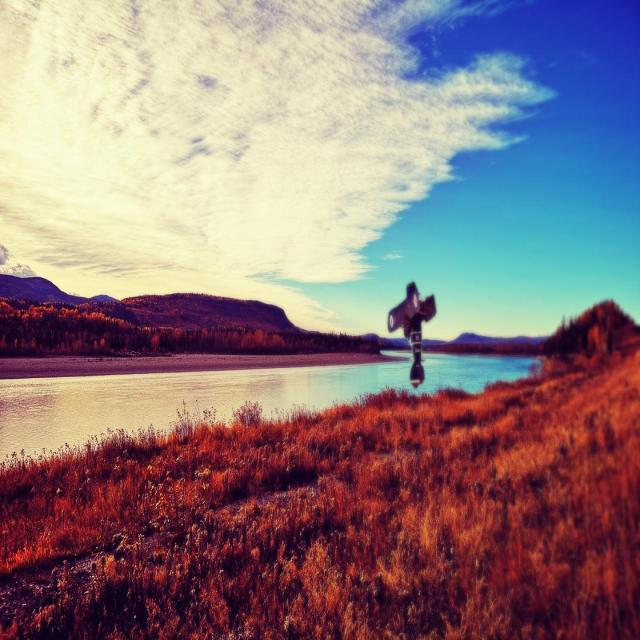airplane: (386, 280, 436, 387)
